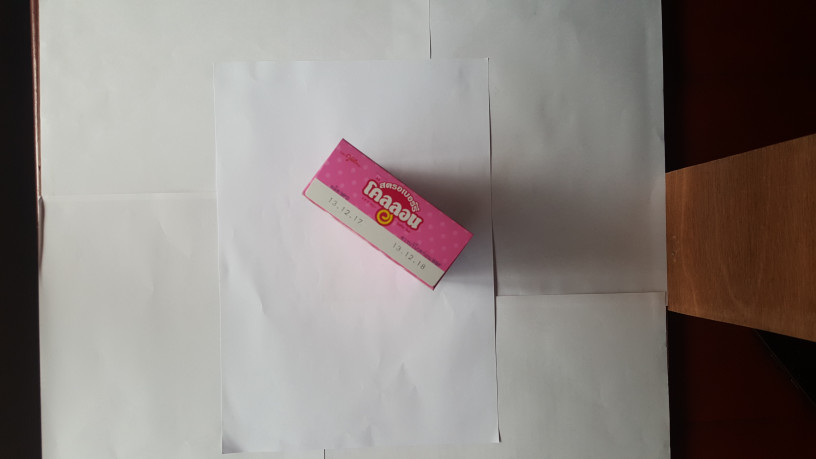collon-strawberry: (298, 137, 475, 293)
